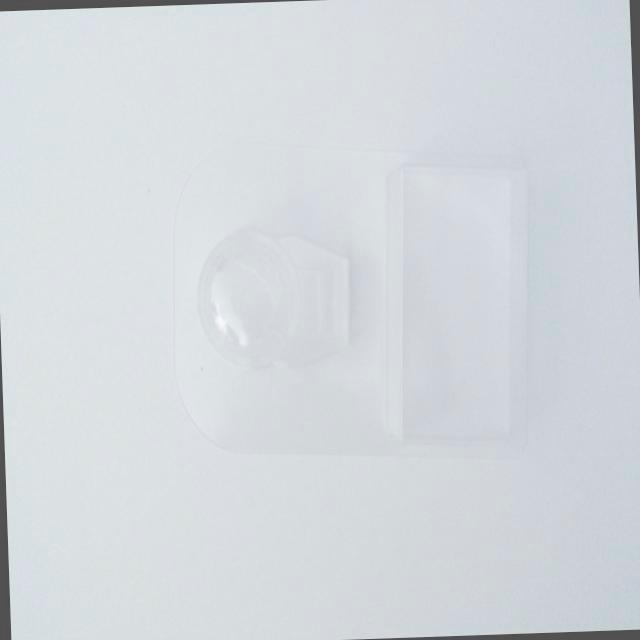plastic: (151, 107, 577, 514)
